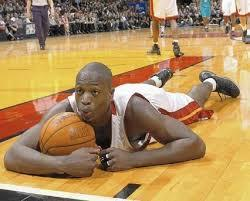down: (4, 62, 244, 181)
